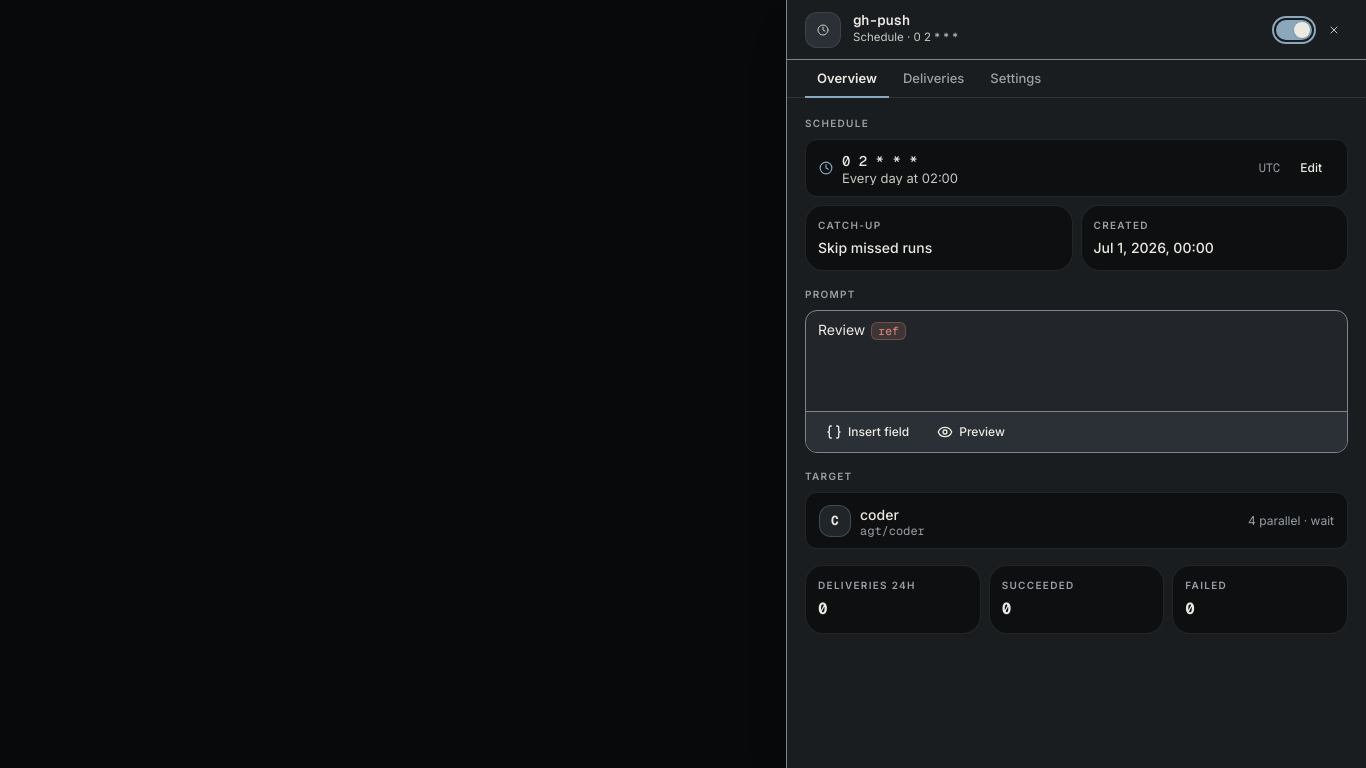
schedule editing › blocks an expression that is not five fields
This screenshot has width=1366, height=768.
Click the button "Edit" at (1311, 168), box [1288,154,1334,182]
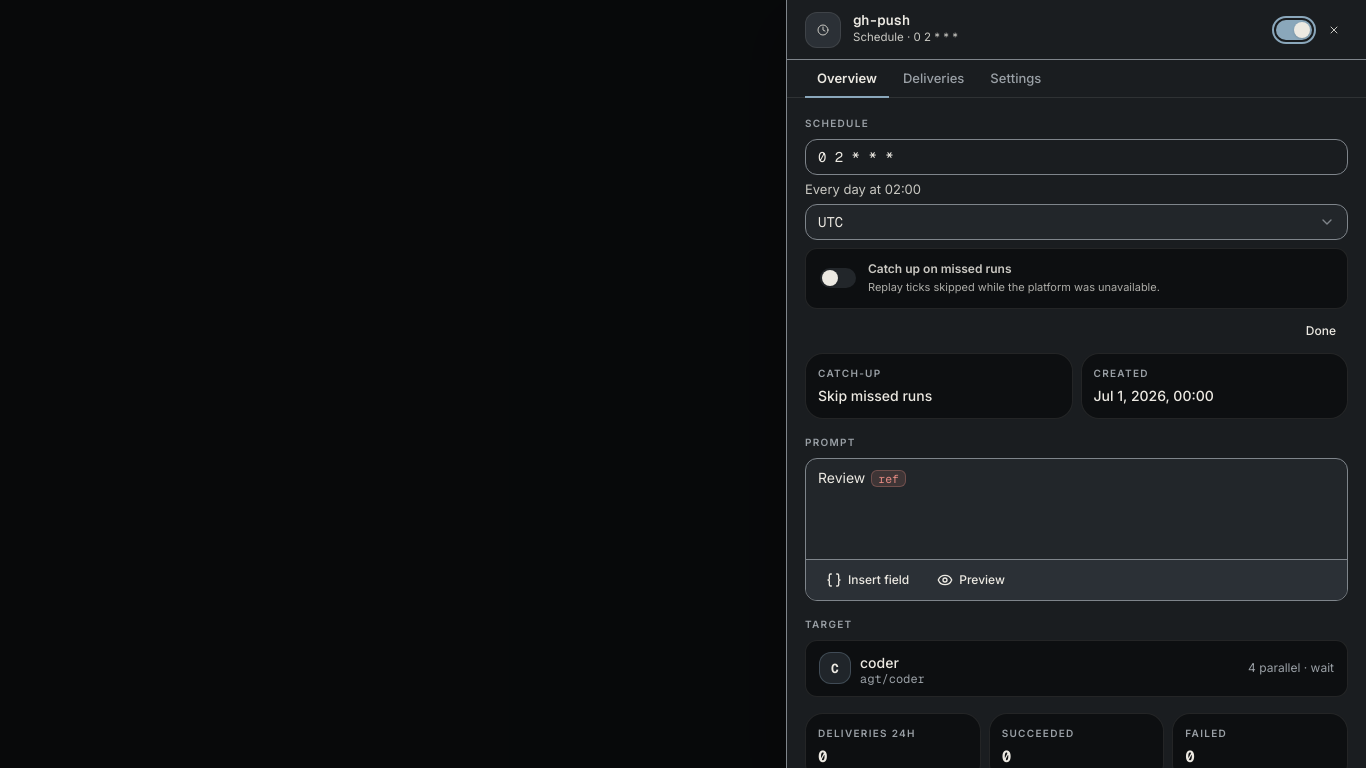
Type "0 2 * *" into the field named "Cron expression" at (1076, 157), box [805,139,1348,175]
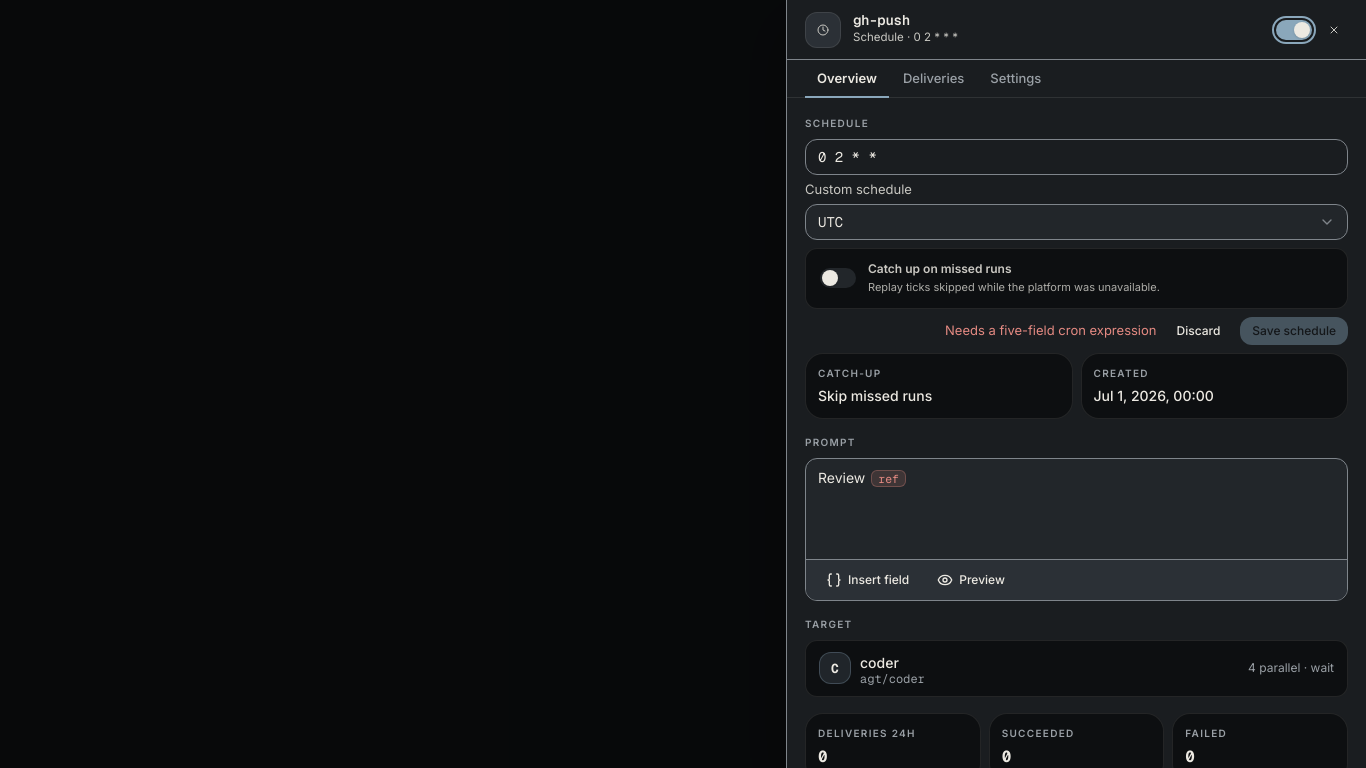
Expected: the text "Needs a five-field cron expression" is shown, [945,324,1156,337]
Expected: the button "Save schedule" is disabled, [1240,316,1348,344]
